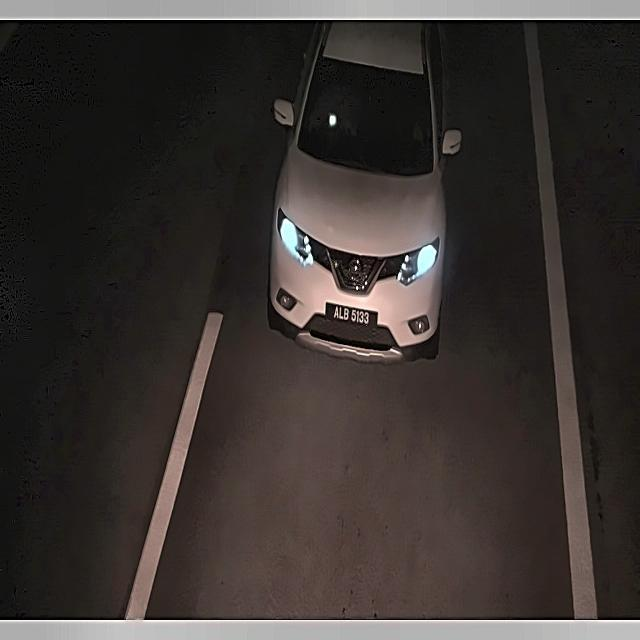car: (320, 295, 384, 334)
